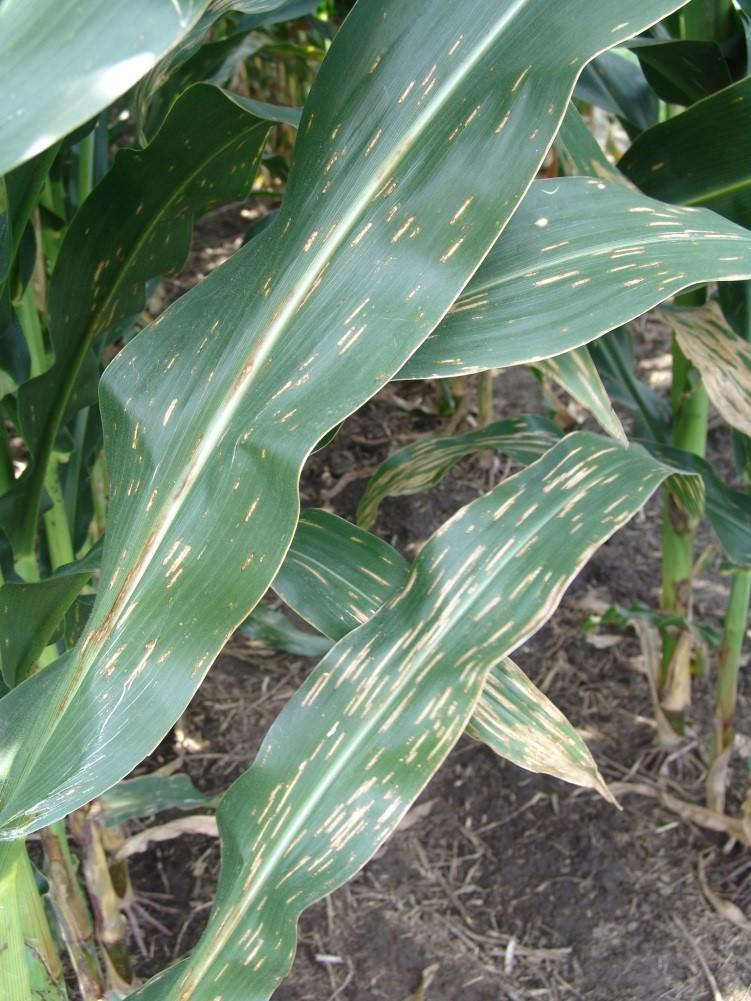Corn leaf blight: (22, 2, 715, 808), (146, 447, 685, 1001), (9, 70, 311, 500), (396, 170, 747, 398)
